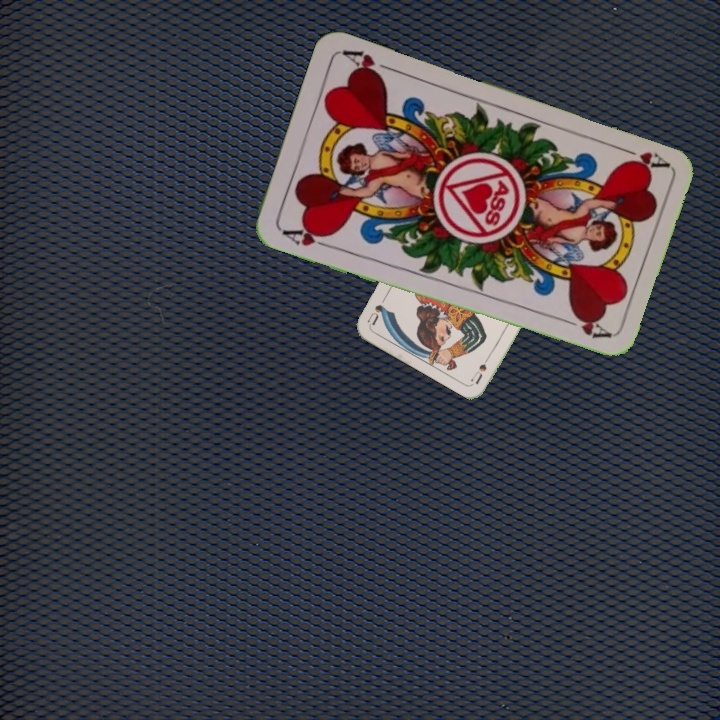HA: (612, 142, 670, 175), (278, 222, 334, 251)
SU: (467, 347, 495, 386)
